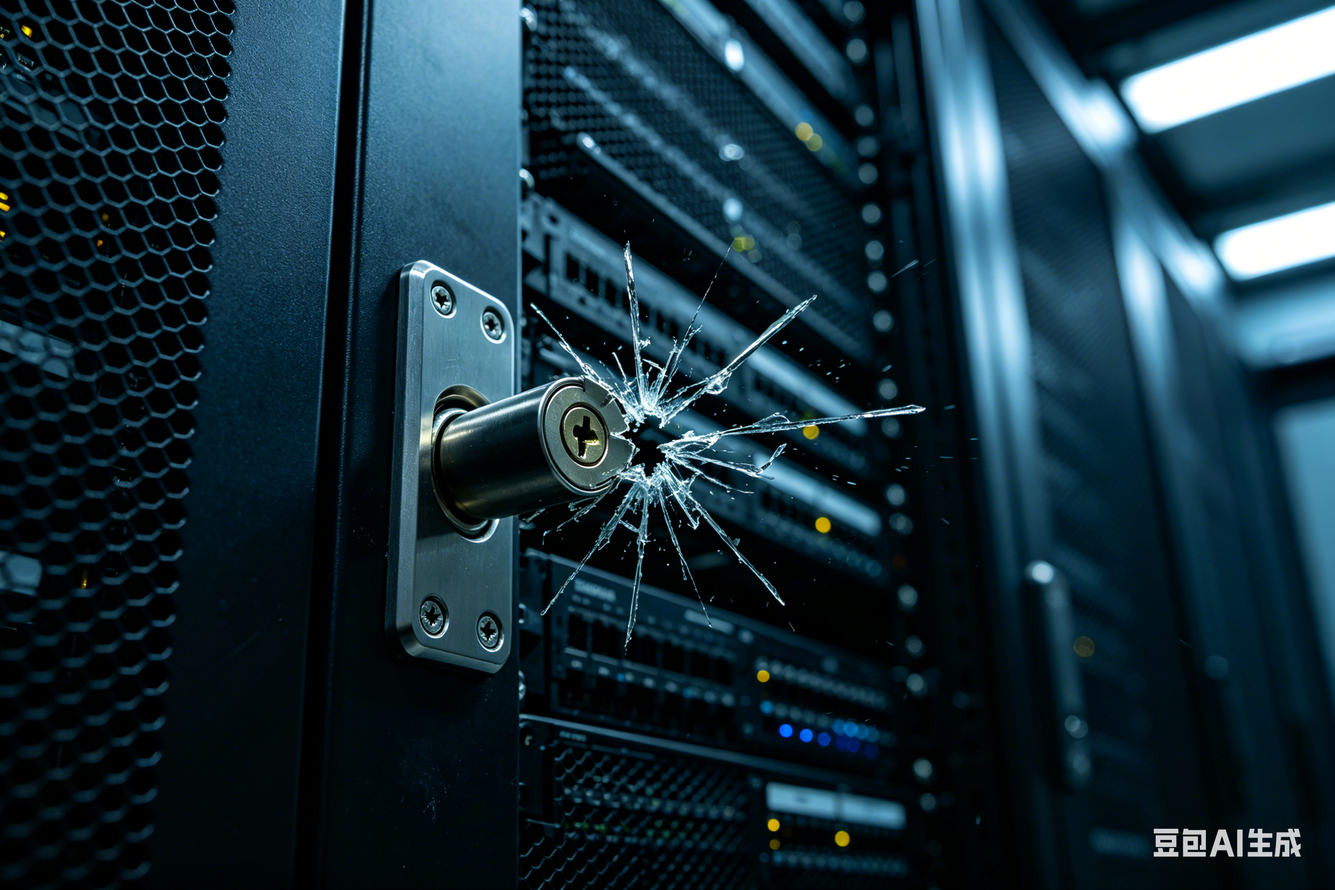BadLock: (524, 335, 766, 526)
